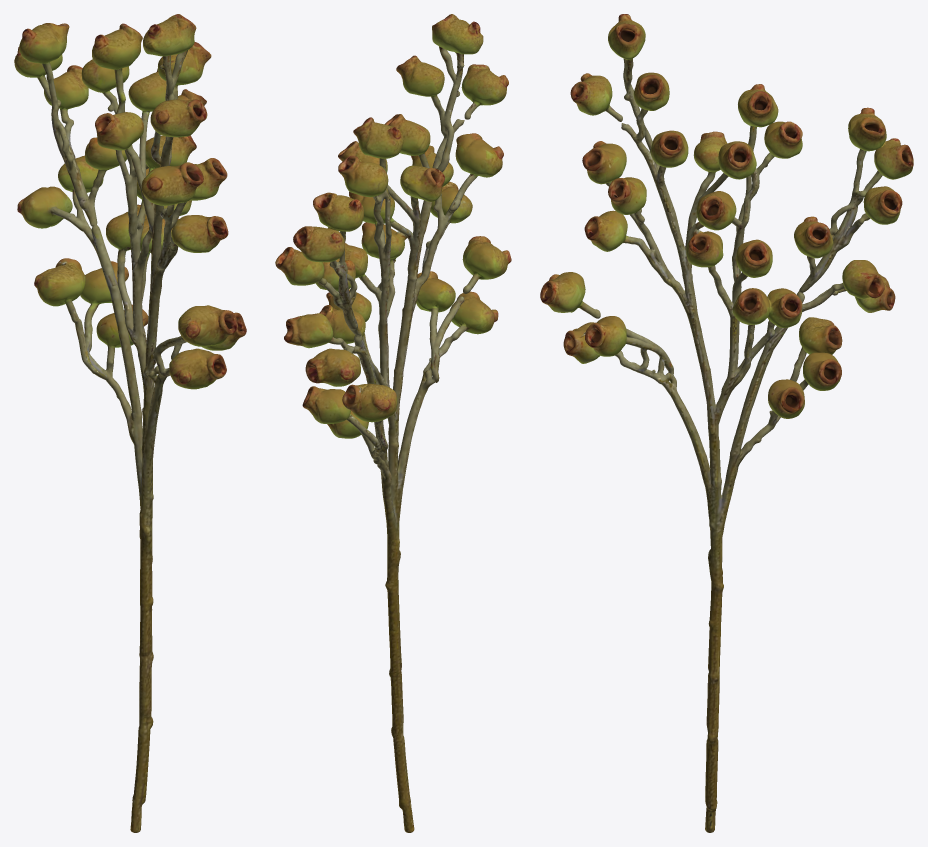
File: GreenBerry.glb
The picture shows the model from 3 angles, left to right: view 1: azimuth 30°, elevation 25°; view 2: azimuth 150°, elevation 25°; view 3: azimuth 270°, elevation 25°; orthographic projection. The views are drawn at different scales.
Visible parts, largest first — view 1: tripo_node_818ab20e-458d-4f5d-ab0e-b27717ec01a7; view 2: tripo_node_818ab20e-458d-4f5d-ab0e-b27717ec01a7; view 3: tripo_node_818ab20e-458d-4f5d-ab0e-b27717ec01a7.
Boxes of the visible parts, x1=… form: tripo_node_818ab20e-458d-4f5d-ab0e-b27717ec01a7: x1=14, y1=14, x2=246, y2=832; tripo_node_818ab20e-458d-4f5d-ab0e-b27717ec01a7: x1=275, y1=14, x2=511, y2=832; tripo_node_818ab20e-458d-4f5d-ab0e-b27717ec01a7: x1=540, y1=14, x2=913, y2=832.
Size of the model in its own units: 0.1414 by 1 by 0.4192.
Materials: 1 (1 with a texture image).
